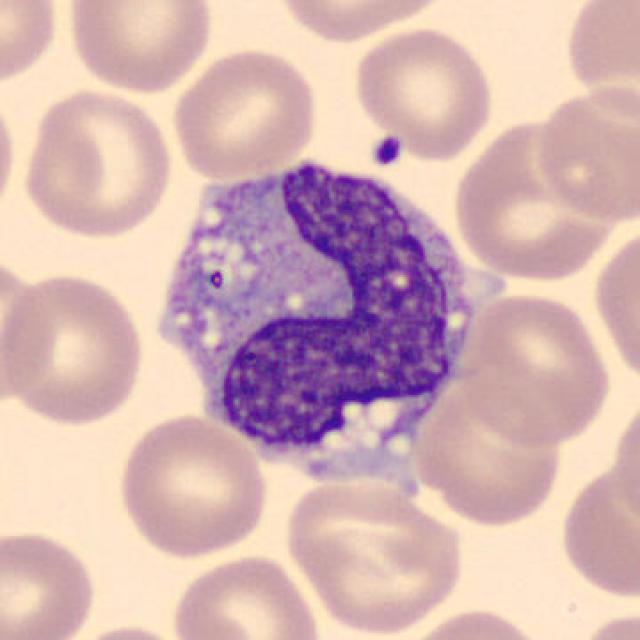Monocyte: (140, 147, 490, 496)
Platelets: (368, 132, 405, 169)
RBC: (448, 109, 628, 286), (281, 473, 467, 638), (455, 289, 615, 450), (18, 85, 178, 242), (2, 266, 149, 430), (114, 410, 272, 560), (167, 44, 322, 182), (422, 381, 565, 529), (348, 23, 498, 162), (530, 81, 640, 226), (62, 0, 217, 95), (169, 550, 325, 640), (555, 439, 638, 607), (0, 523, 101, 640), (0, 252, 60, 414), (560, 0, 638, 111), (271, 0, 454, 46), (590, 218, 638, 390), (0, 0, 64, 90), (396, 604, 552, 640), (610, 393, 640, 538), (0, 81, 21, 225), (60, 620, 197, 640), (568, 604, 638, 640)
